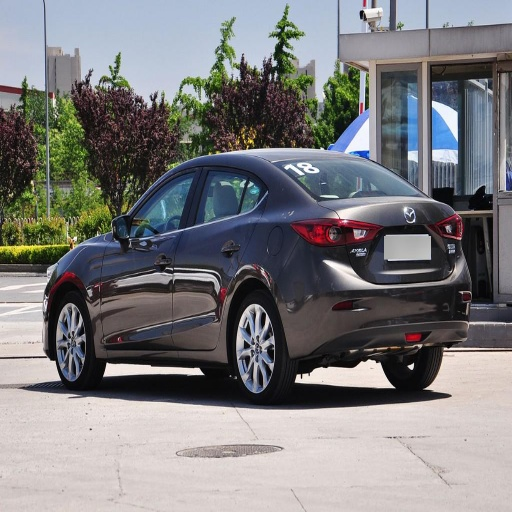_background_: (282, 259, 470, 352)
back_bumper: (275, 157, 415, 200)
back_glass: (174, 165, 255, 348)
back_left_door: (293, 219, 366, 271)
front_glass: (99, 164, 199, 347)
right_mirror: (323, 195, 453, 283)
trunk: (229, 292, 288, 400), (51, 292, 100, 389), (386, 347, 440, 390)
